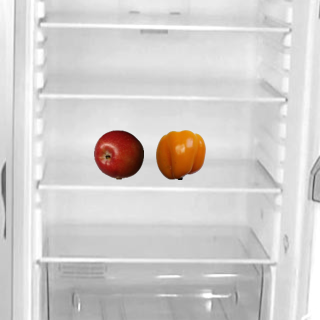Apple Braeburn: (93, 129, 143, 179)
Pepper Yellow: (155, 129, 205, 179)
